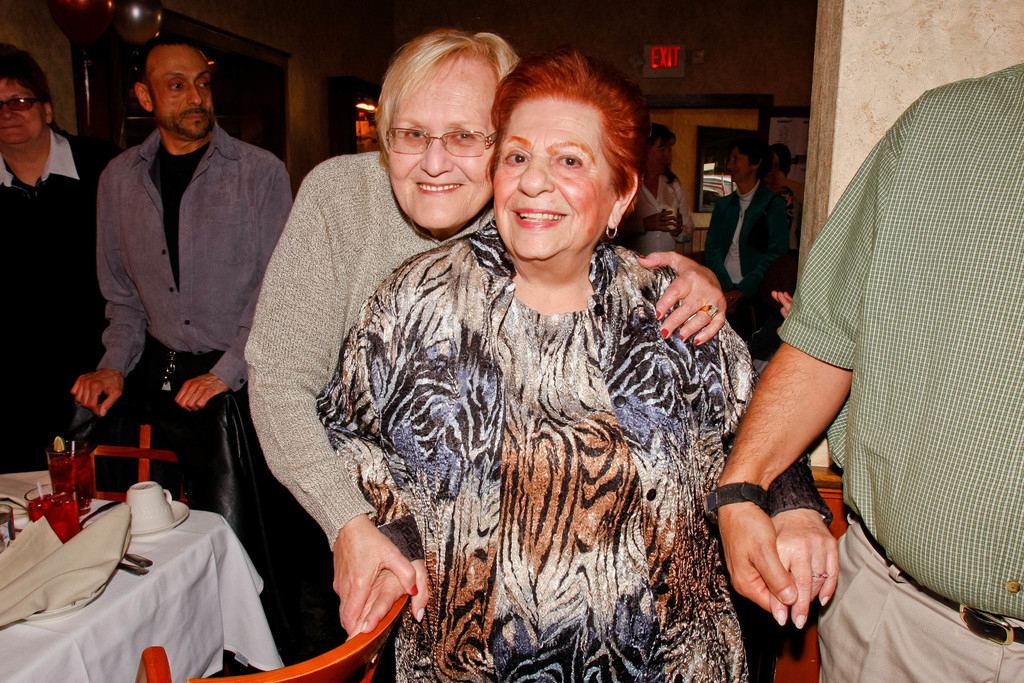Human_hand: (634, 248, 728, 349), (714, 506, 797, 618), (771, 513, 842, 630), (343, 555, 431, 643), (65, 369, 124, 420), (172, 373, 230, 416), (648, 210, 683, 236), (769, 288, 794, 323)
